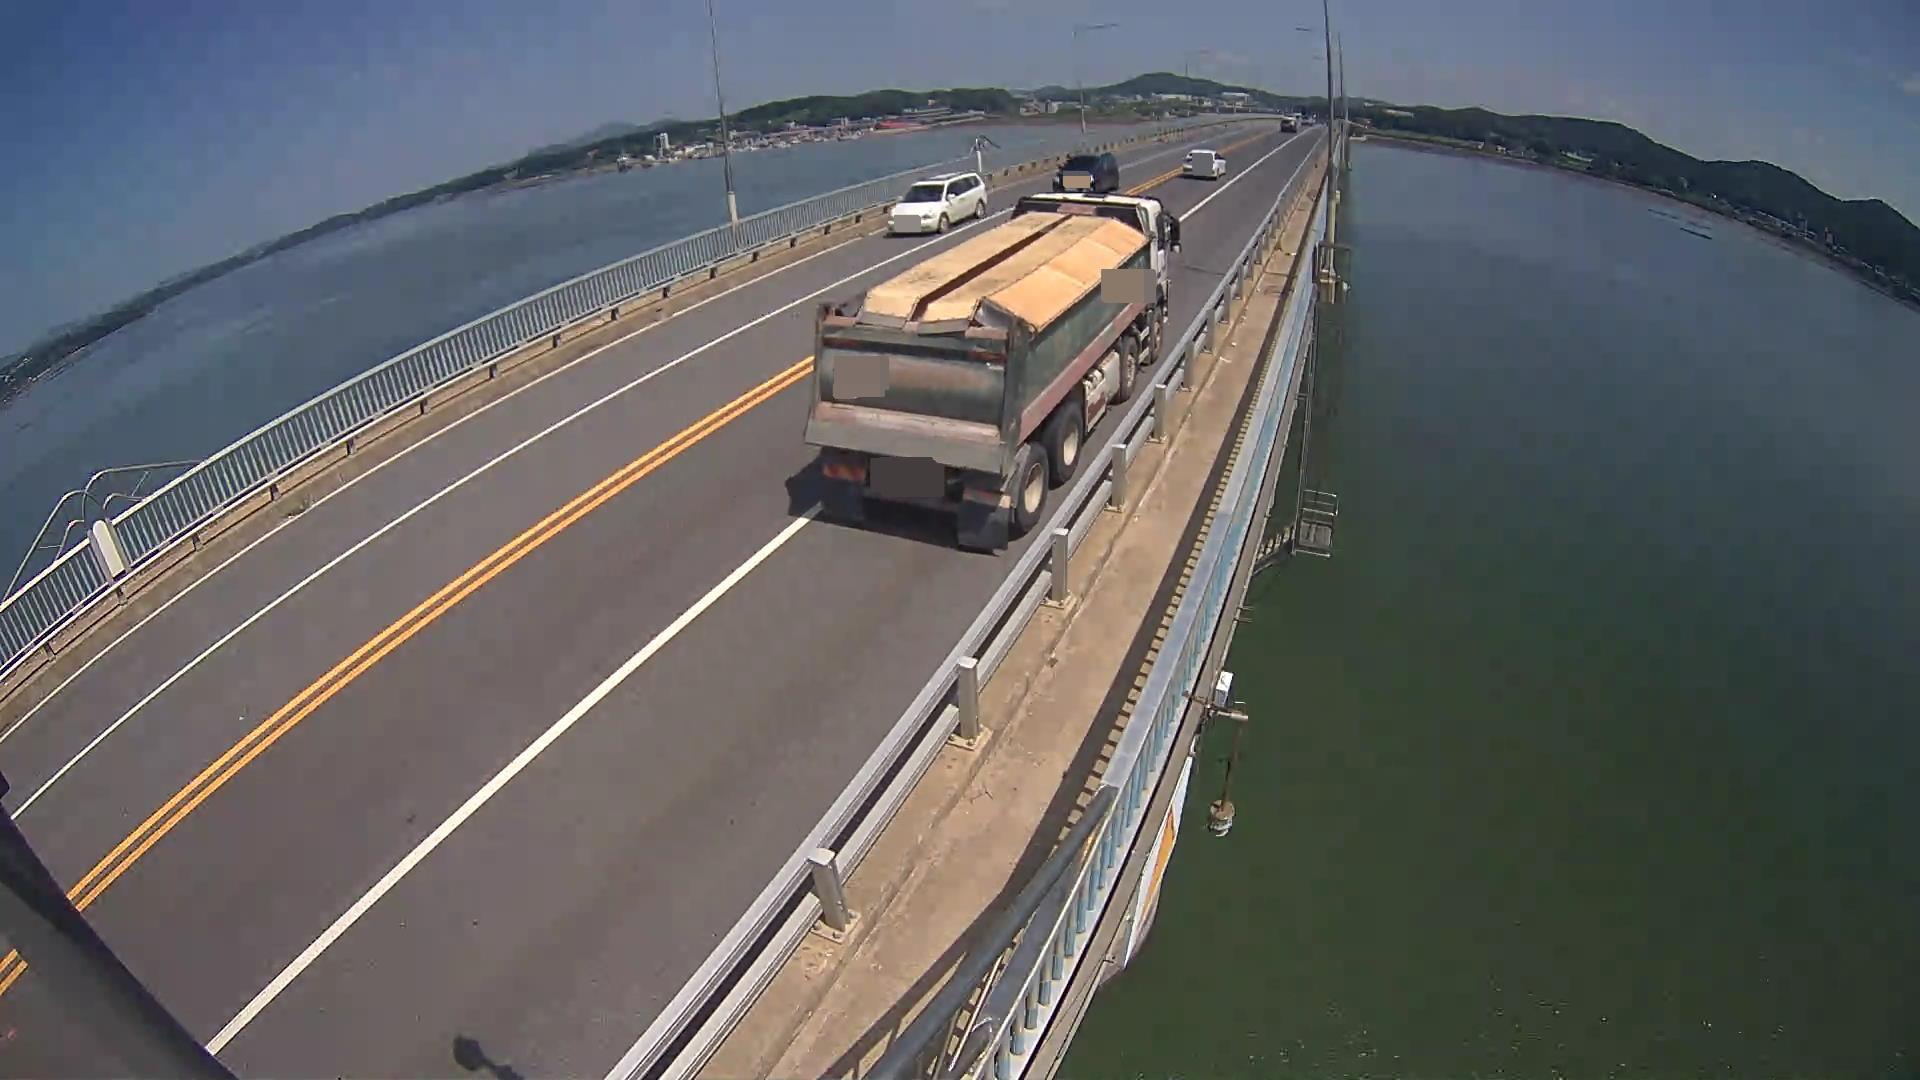정상차량: (803, 191, 1182, 551)
